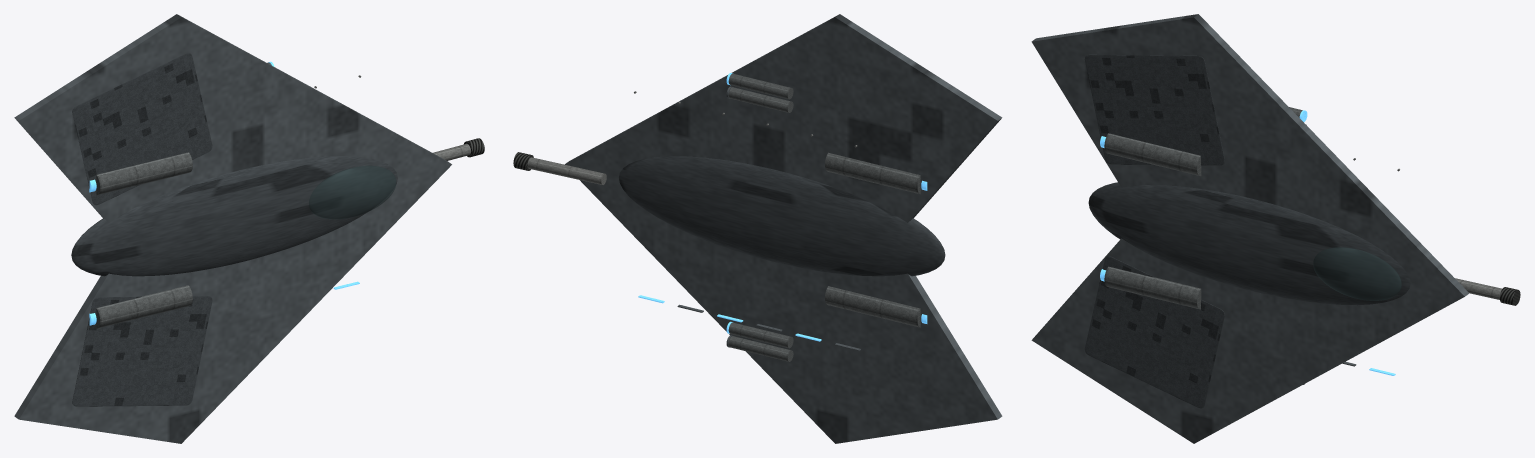
The model's file is s-u29-specter-stealth-striker-lod0.glb.
3 renders of one model, left to right at view 1: azimuth 30°, elevation 25°; view 2: azimuth 150°, elevation 25°; view 3: azimuth 330°, elevation 25°, orthographic.
Visible parts, largest first — view 1: flying_wing_planform, flying_wing_core, flying_wing_elevon_1, flying_wing_elevon_-1, flying_wing_canopy, flying_wing_engine_0, flying_wing_engine_1; view 2: flying_wing_planform, flying_wing_core, flying_wing_engine_1, flying_wing_engine_0, flying_wing_gun_barrel_0, flying_wing_-1_tube_1, flying_wing_1_tube_2, flying_wing_-1_tube_2, flying_wing_1_tube_1; view 3: flying_wing_planform, flying_wing_core, flying_wing_elevon_1, flying_wing_elevon_-1, flying_wing_canopy, flying_wing_engine_0, flying_wing_engine_1, flying_wing_gun_barrel_0.
Part boxes in pixels (<box>): flying_wing_planform: <box>14,14,451,443</box>; flying_wing_core: <box>71,156,397,276</box>; flying_wing_elevon_1: <box>72,53,212,205</box>; flying_wing_elevon_-1: <box>72,296,212,406</box>; flying_wing_canopy: <box>309,165,396,219</box>; flying_wing_engine_0: <box>96,285,192,328</box>; flying_wing_engine_1: <box>96,152,192,195</box>; flying_wing_planform: <box>565,14,1002,443</box>; flying_wing_core: <box>619,156,945,276</box>; flying_wing_engine_1: <box>825,152,920,194</box>; flying_wing_engine_0: <box>825,286,920,327</box>; flying_wing_gun_barrel_0: <box>527,157,606,184</box>; flying_wing_-1_tube_1: <box>728,336,793,361</box>; flying_wing_1_tube_2: <box>728,73,793,99</box>; flying_wing_-1_tube_2: <box>728,322,793,348</box>; flying_wing_1_tube_1: <box>728,87,793,112</box>; flying_wing_planform: <box>1031,14,1469,443</box>; flying_wing_core: <box>1088,182,1410,305</box>; flying_wing_elevon_1: <box>1084,54,1224,165</box>; flying_wing_elevon_-1: <box>1084,256,1224,408</box>; flying_wing_canopy: <box>1313,247,1401,300</box>; flying_wing_engine_0: <box>1104,266,1201,309</box>; flying_wing_engine_1: <box>1104,133,1201,176</box>; flying_wing_gun_barrel_0: <box>1455,278,1501,299</box>.
Size of what is drawn, in the model's own units: 14.85 by 12.78 by 1.3.
7 materials, 7 textured.
